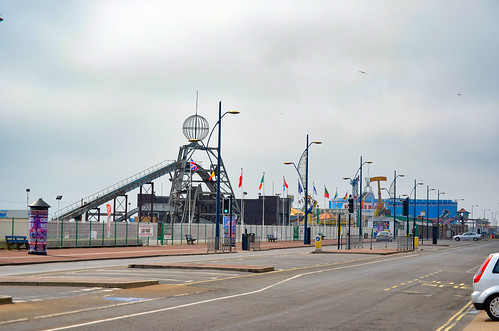building: (169, 119, 247, 234), (334, 191, 458, 233)
car: (457, 229, 482, 245)
flag: (182, 156, 200, 177), (205, 165, 223, 186), (233, 167, 251, 188), (253, 170, 271, 191), (275, 171, 293, 192)
sky: (5, 1, 499, 192)
street: (1, 243, 496, 331)
